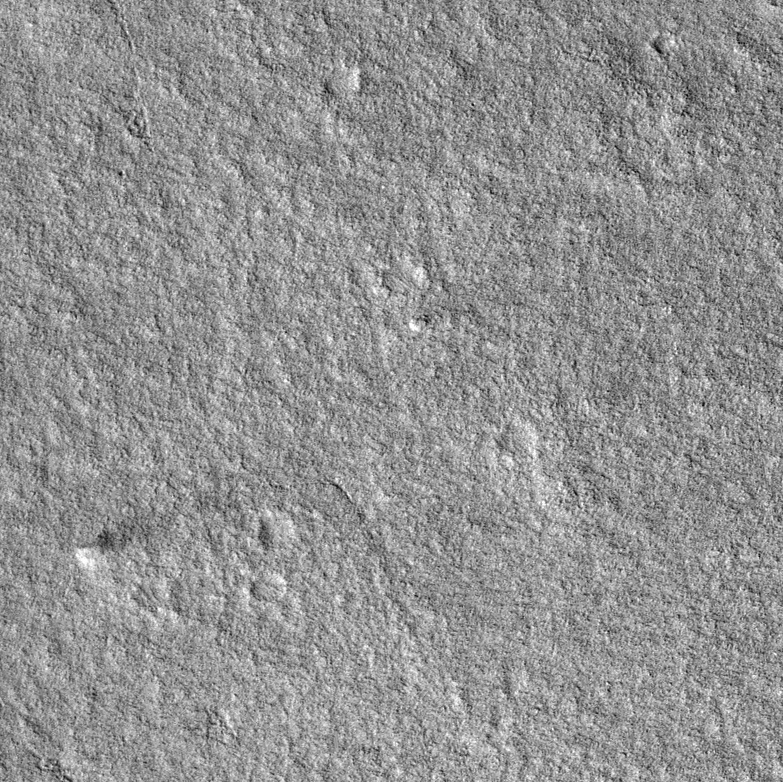dust_devil: (70, 518, 154, 574)
